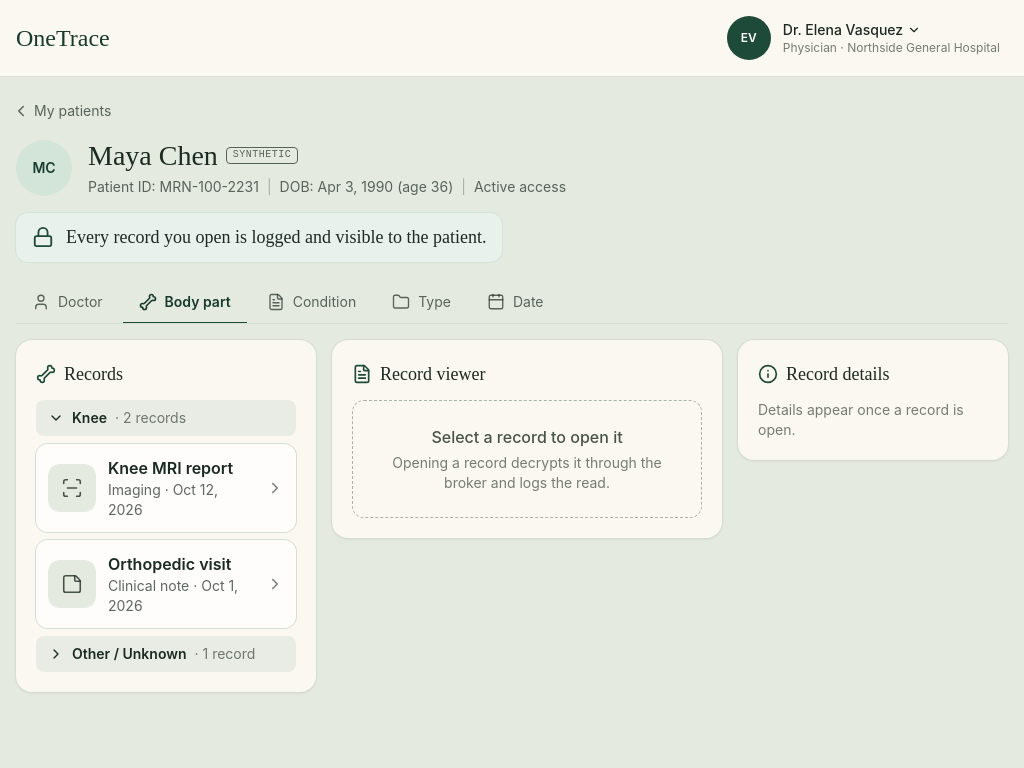
Test: Patient records (mockup page 3, screen 3) › switching the grouping tab refetches with that key and keeps the tab selected
Click the tab "Doctor" at [67, 303], box x1=16 y1=282 x2=119 y2=324
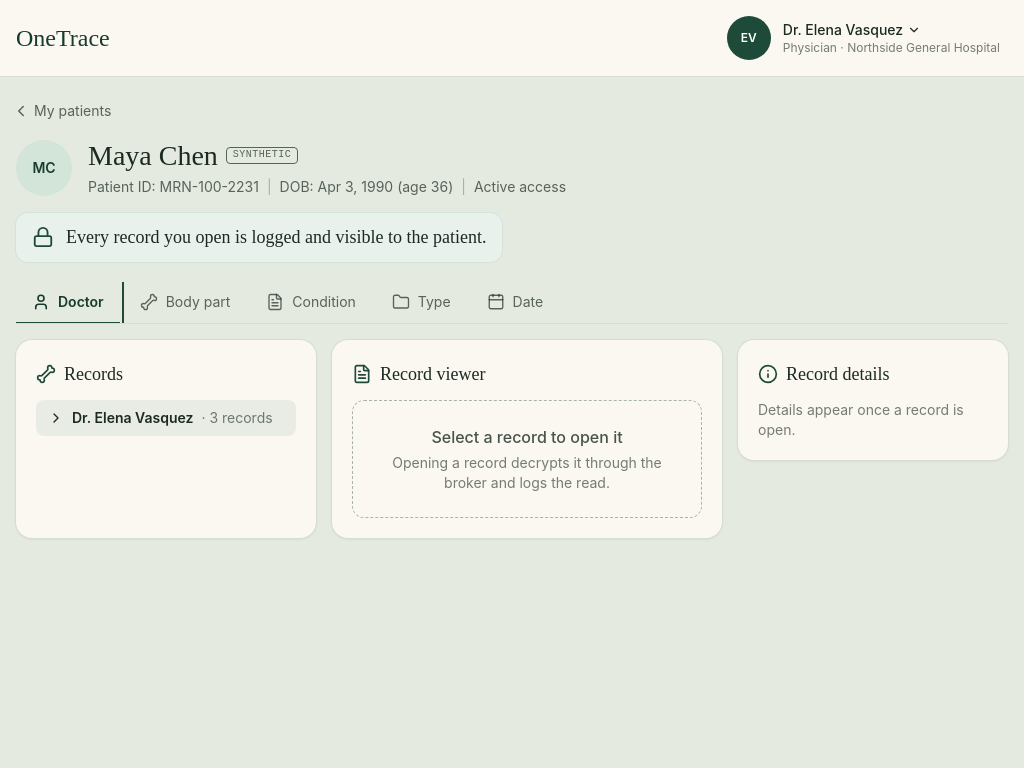
Now the button "Dr. Elena Vasquez · 3 records" is shown, box x1=36 y1=400 x2=296 y2=436
